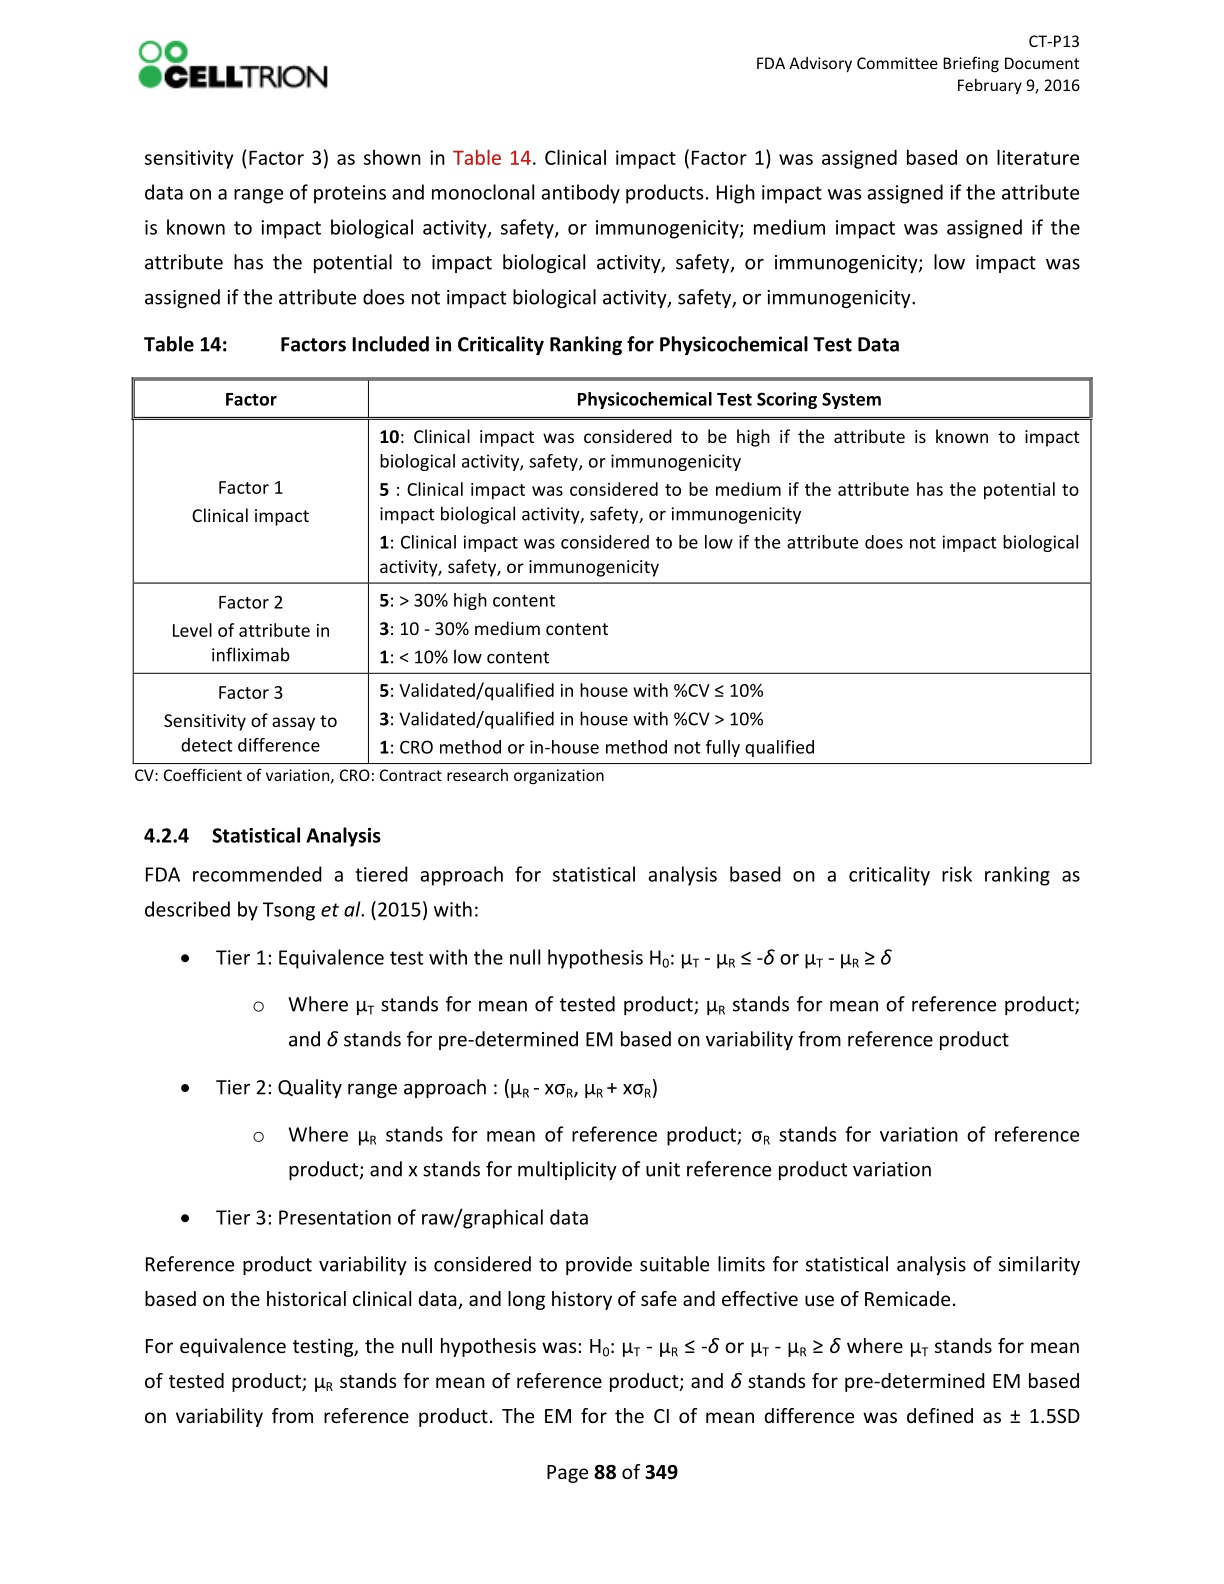full_lined: (131, 377, 1092, 765)
